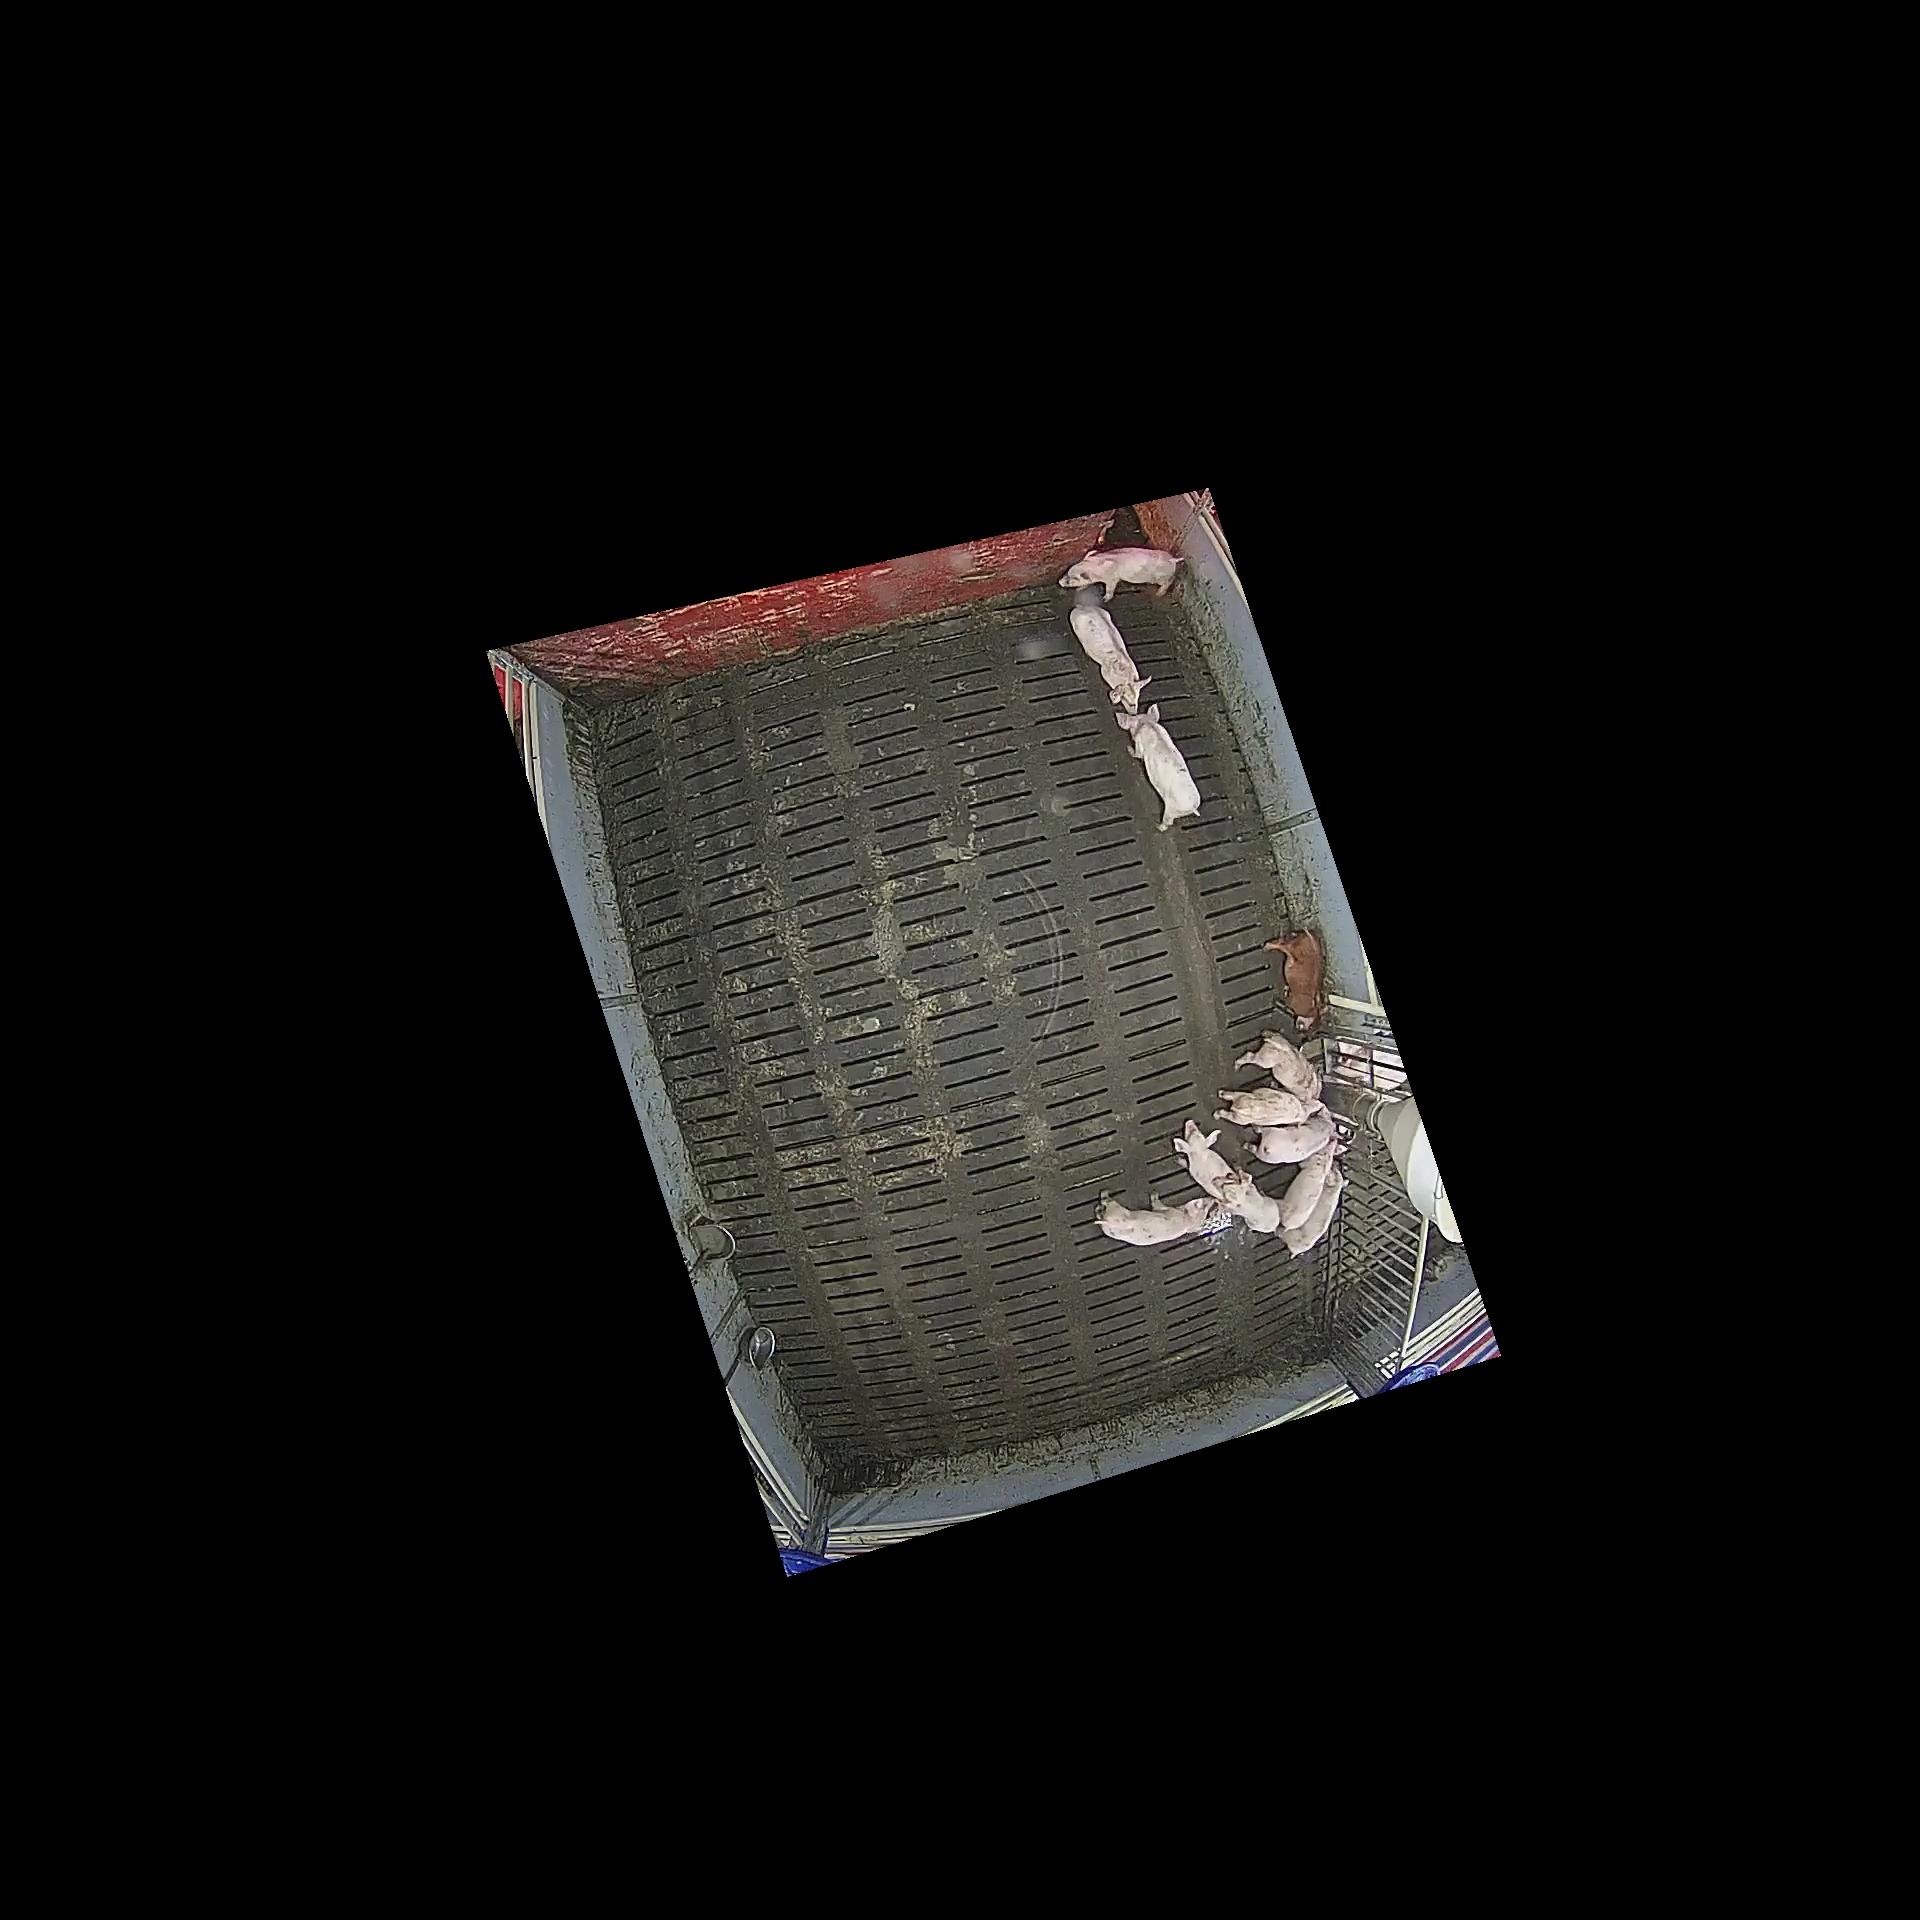pig: (1115, 703, 1201, 832), (1069, 601, 1152, 716), (1058, 549, 1183, 603), (1262, 927, 1327, 1030), (1094, 1190, 1213, 1247), (1234, 1030, 1324, 1102), (1276, 1139, 1345, 1231), (1276, 1166, 1343, 1259), (1243, 1108, 1338, 1162), (1175, 1118, 1233, 1199), (1215, 1087, 1324, 1125), (1213, 1169, 1278, 1233)
